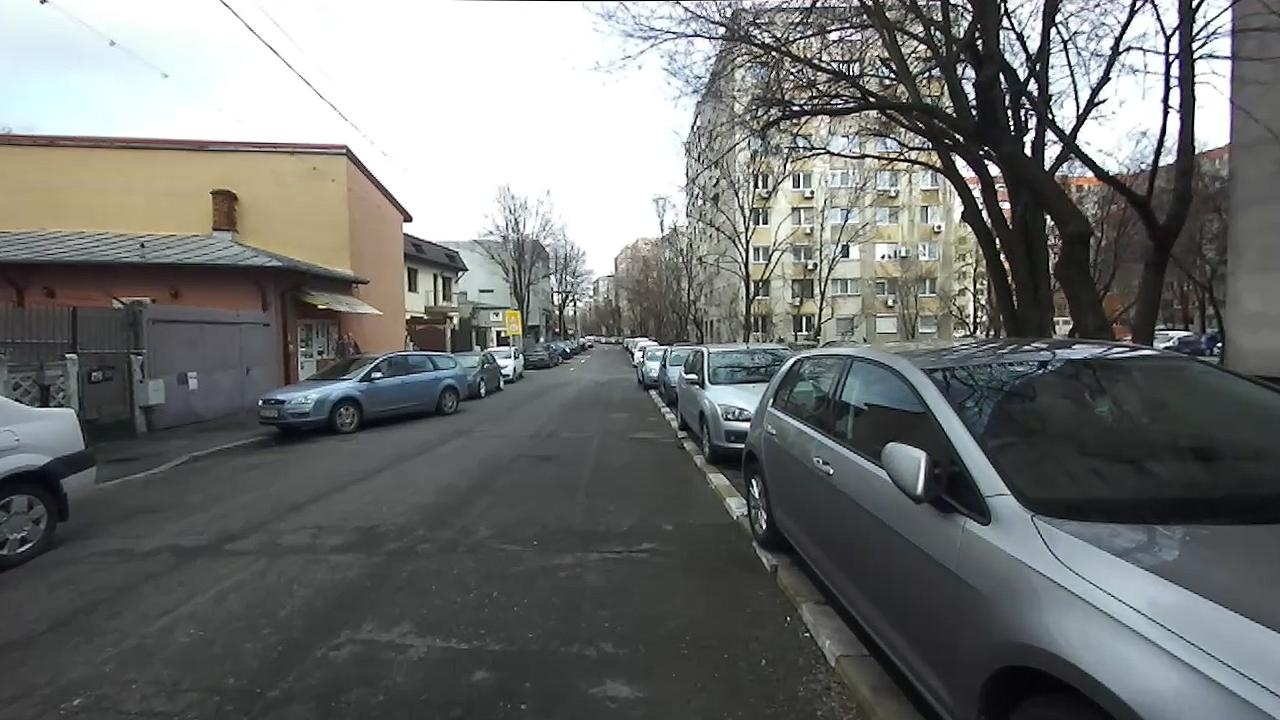pothole: (572, 539, 661, 564)
